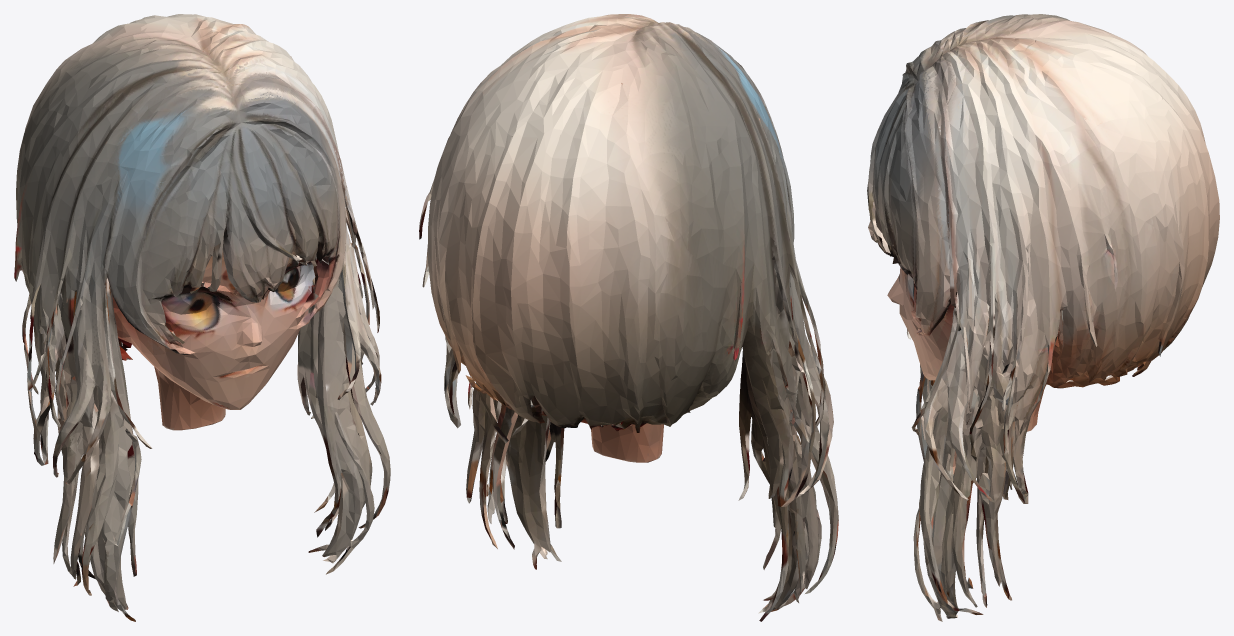
Rendered from traveler_head_side_hana_hair_clearance_v2_00001_.glb.
The picture shows the model from 3 angles, left to right: view 1: azimuth 30°, elevation 25°; view 2: azimuth 150°, elevation 25°; view 3: azimuth 270°, elevation 25°; orthographic projection. The views are drawn at different scales.
Visible parts, largest first — view 1: temp_mesh.ply; view 2: temp_mesh.ply; view 3: temp_mesh.ply.
Boxes of the visible parts, bbox=[...] form: temp_mesh.ply: bbox=[14, 14, 390, 621]; temp_mesh.ply: bbox=[419, 14, 838, 621]; temp_mesh.ply: bbox=[867, 14, 1219, 621].
Size of the model in its own units: 1.32 by 1.97 by 1.16.
Materials: 1 (1 with a texture image).
